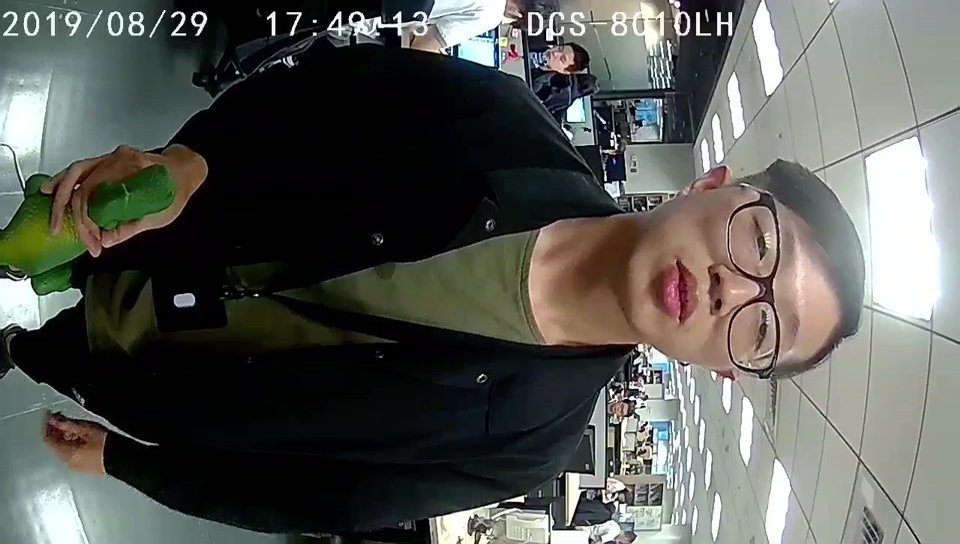rex: (1, 164, 174, 294)
